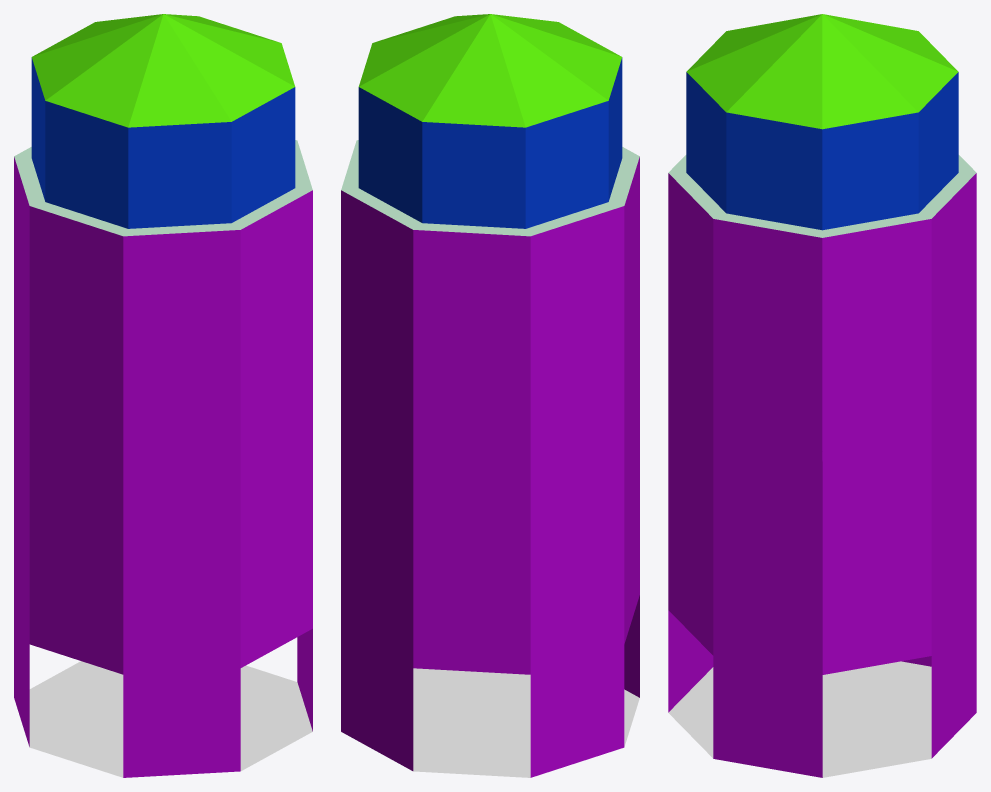
The picture shows the model from 3 angles, left to right: view 1: azimuth 30°, elevation 25°; view 2: azimuth 150°, elevation 25°; view 3: azimuth 270°, elevation 25°; orthographic projection.
Visible parts, largest first — view 1: Torreon; view 2: Torreon; view 3: Torreon.
Boxes of the visible parts, box(x1,y1,x2,y2) form: Torreon: box(14, 14, 312, 777); Torreon: box(341, 14, 639, 777); Torreon: box(668, 14, 976, 777).
Size of the model in its own units: 4000 by 10000 by 4000.
